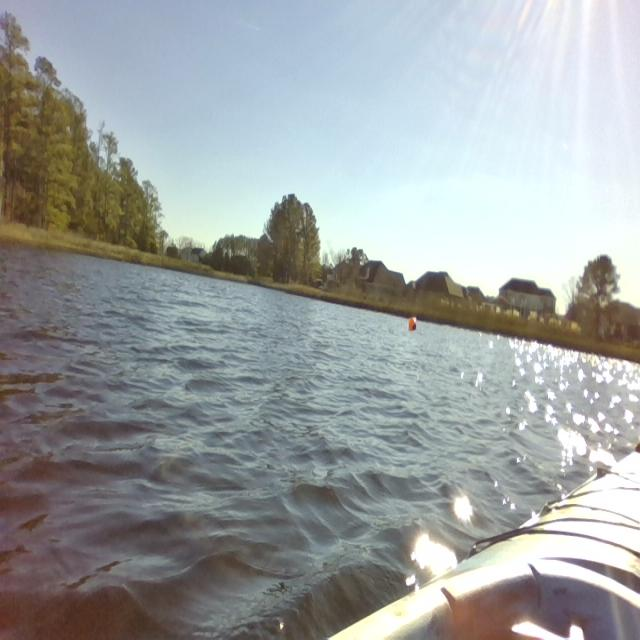Buoy: (404, 308, 422, 342)
